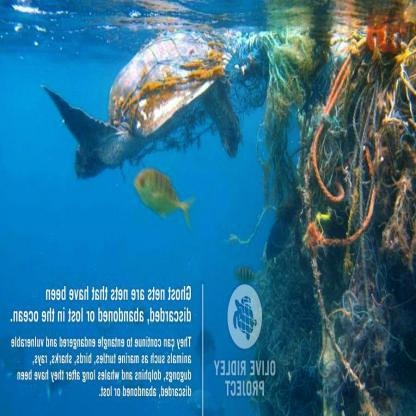net: (268, 42, 416, 413)
